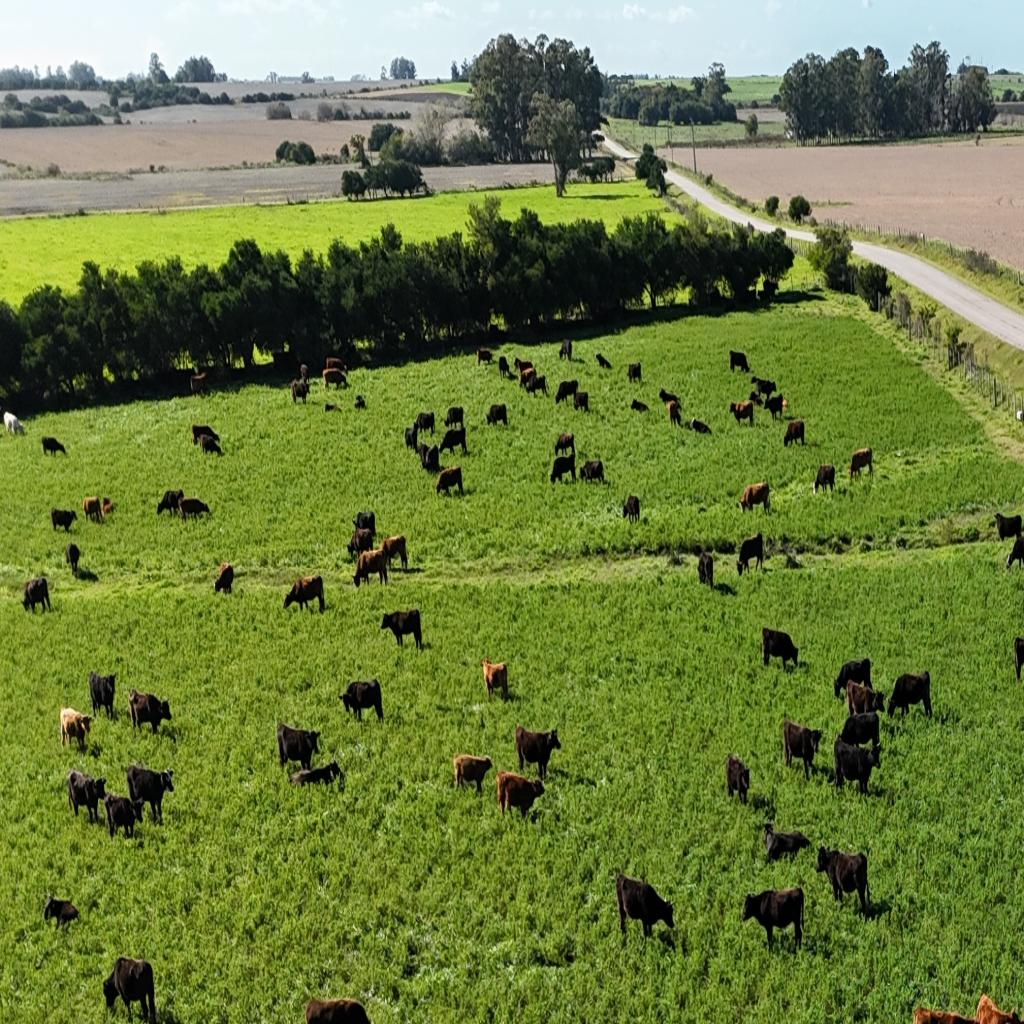cow: (742, 887, 803, 955), (815, 844, 871, 916), (616, 872, 672, 942), (104, 956, 157, 1024), (350, 533, 410, 587), (126, 763, 174, 825), (832, 737, 882, 796), (515, 725, 561, 782), (782, 719, 822, 781), (497, 770, 545, 818), (276, 722, 321, 770), (66, 768, 106, 822), (887, 671, 932, 718), (762, 824, 812, 866), (102, 791, 142, 841), (839, 712, 883, 756), (306, 995, 373, 1023), (971, 989, 1024, 1024), (129, 689, 169, 734), (341, 679, 383, 720), (452, 753, 492, 794), (43, 888, 80, 932), (382, 608, 422, 648), (284, 574, 324, 614), (761, 627, 799, 669), (834, 657, 872, 699), (290, 760, 344, 789), (846, 679, 883, 718), (512, 356, 546, 398), (88, 672, 116, 719), (61, 709, 91, 751), (726, 754, 750, 806), (736, 532, 765, 575), (482, 658, 508, 700), (741, 480, 771, 516), (23, 577, 52, 614), (346, 527, 374, 564), (993, 512, 1022, 543), (438, 427, 467, 458), (435, 465, 463, 496), (177, 497, 210, 523), (848, 448, 874, 480), (550, 454, 576, 485), (156, 489, 184, 517), (51, 508, 78, 535), (1008, 533, 1024, 578), (813, 463, 835, 495), (729, 400, 754, 428), (82, 495, 104, 526), (214, 562, 234, 595), (578, 459, 604, 484), (783, 419, 805, 448), (764, 393, 785, 423), (751, 376, 776, 401), (554, 380, 578, 406), (697, 551, 714, 587), (354, 510, 375, 539), (420, 443, 440, 473), (127, 691, 141, 732), (322, 369, 348, 391), (554, 431, 575, 458), (64, 543, 80, 578), (622, 493, 640, 524), (486, 403, 507, 429), (191, 425, 221, 443), (4, 412, 24, 438), (41, 437, 66, 457), (291, 380, 310, 406), (730, 350, 750, 374), (415, 412, 435, 436), (445, 406, 465, 430), (324, 357, 347, 375), (190, 372, 207, 396), (659, 388, 679, 408), (690, 417, 712, 435), (404, 426, 419, 452), (668, 401, 682, 428), (514, 357, 533, 376), (573, 391, 589, 413), (100, 496, 114, 520), (627, 361, 642, 383), (1016, 636, 1024, 677), (477, 346, 493, 366), (559, 338, 572, 362), (595, 352, 611, 369), (498, 355, 510, 377), (630, 398, 648, 412), (749, 390, 764, 406), (354, 394, 366, 411), (324, 401, 342, 412), (503, 367, 517, 381), (566, 379, 579, 391), (300, 364, 308, 381)
